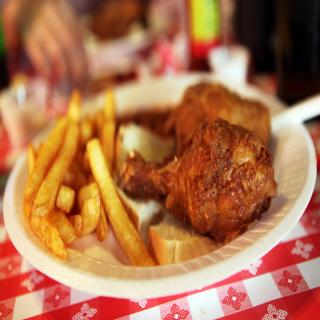French fries: (12, 75, 154, 272)
